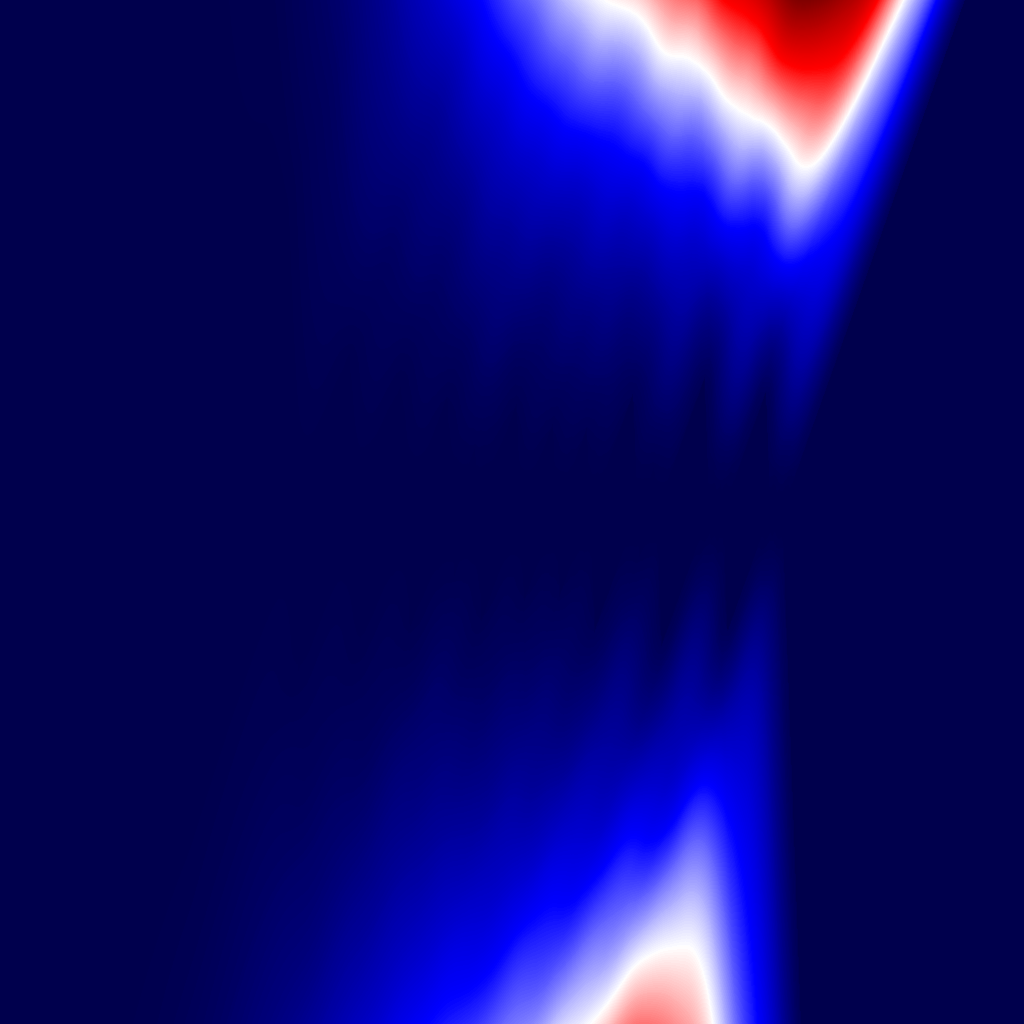diamond: (179, 216, 295, 808), (295, 351, 358, 673), (660, 376, 713, 648), (359, 386, 408, 638), (726, 390, 774, 634), (594, 391, 641, 633), (409, 395, 455, 629), (481, 402, 524, 622), (524, 422, 559, 602), (560, 426, 593, 598), (455, 447, 480, 577), (642, 466, 660, 558), (714, 480, 726, 544), (775, 485, 785, 539)
